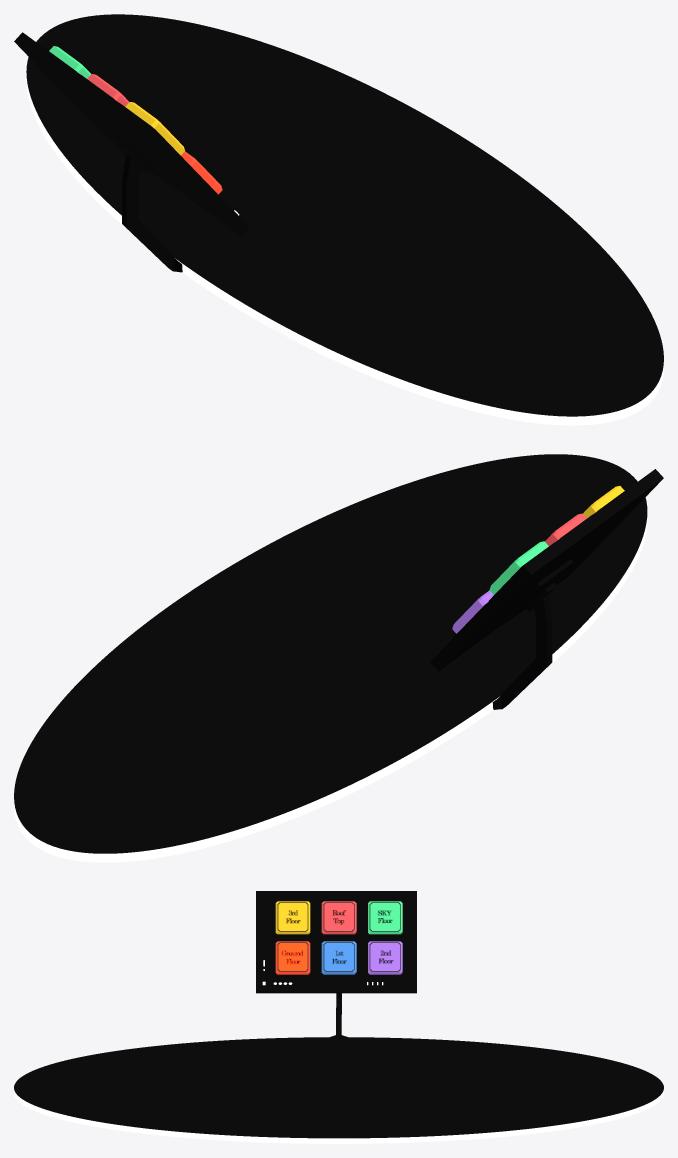
File: Metamall_elevator.gltf
The picture shows the model from 3 angles, top to bottom: view 1: azimuth 30°, elevation 25°; view 2: azimuth 150°, elevation 25°; view 3: azimuth 270°, elevation 25°; orthographic projection. The views are drawn at different scales.
Visible parts, largest first — view 1: Elevator, Buttons; view 2: Elevator, Buttons; view 3: Elevator, Buttons.
Part boxes in pixels (x1,y1,x2,y2): Elevator: (26,14,663,425); Buttons: (14,32,248,272); Elevator: (14,454,647,862); Buttons: (430,469,663,709); Elevator: (14,1037,663,1143); Buttons: (256,891,416,1037).
Size of what is drawn, in the model's own units: 5.59 by 2.57 by 11.86.
2 materials, 2 textured.
